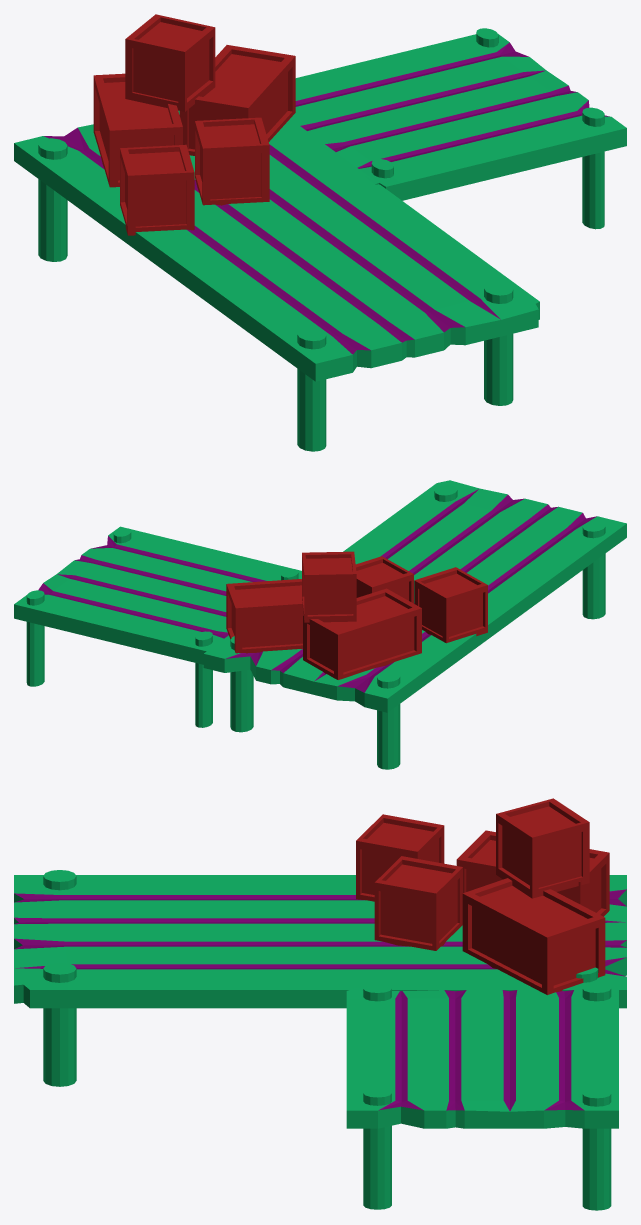
File: port.fbx
3 views of the same model, one above another, from view 1: azimuth 30°, elevation 25°; view 2: azimuth 150°, elevation 25°; view 3: azimuth 270°, elevation 25° (orthographic). The views are drawn at different scales.
Parts seen in each view (by area): view 1: Cube.025; view 2: Cube.025; view 3: Cube.025.
Part boxes in pixels (left/top/right/bottom): Cube.025: left=14, top=14, right=626, bottom=451; Cube.025: left=14, top=480, right=626, bottom=769; Cube.025: left=14, top=798, right=626, bottom=1210.
Size of the model in its own units: 1672 by 712 by 1816.
